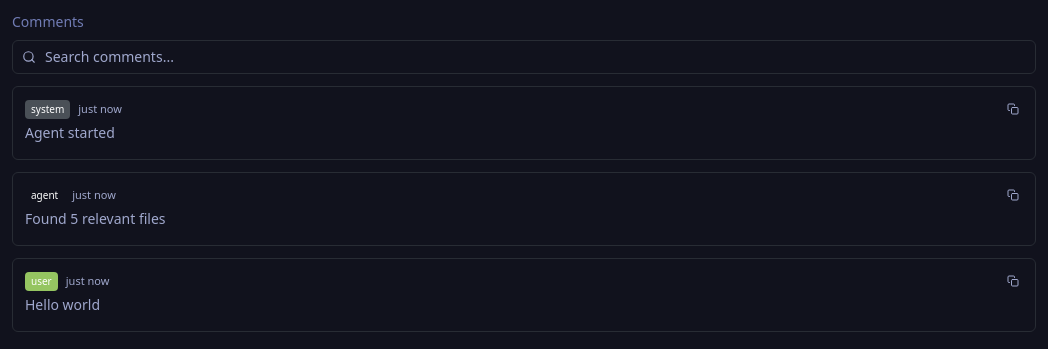
Scenario: CommentsList › comment search › should show no matches message when search matches nothing
Type "zzzznotfound" into the field with test id "comment-search-input" at point(524, 57), box [12,40,1036,74]
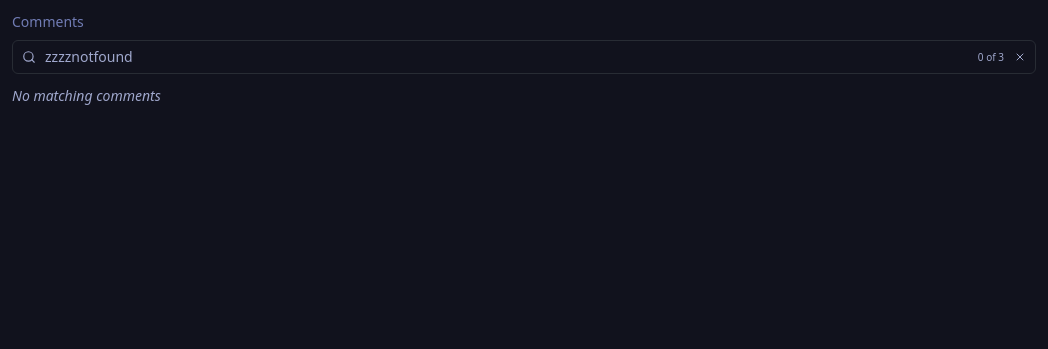
Expected: the text "No matching comments" is shown, [12,86,161,105]
